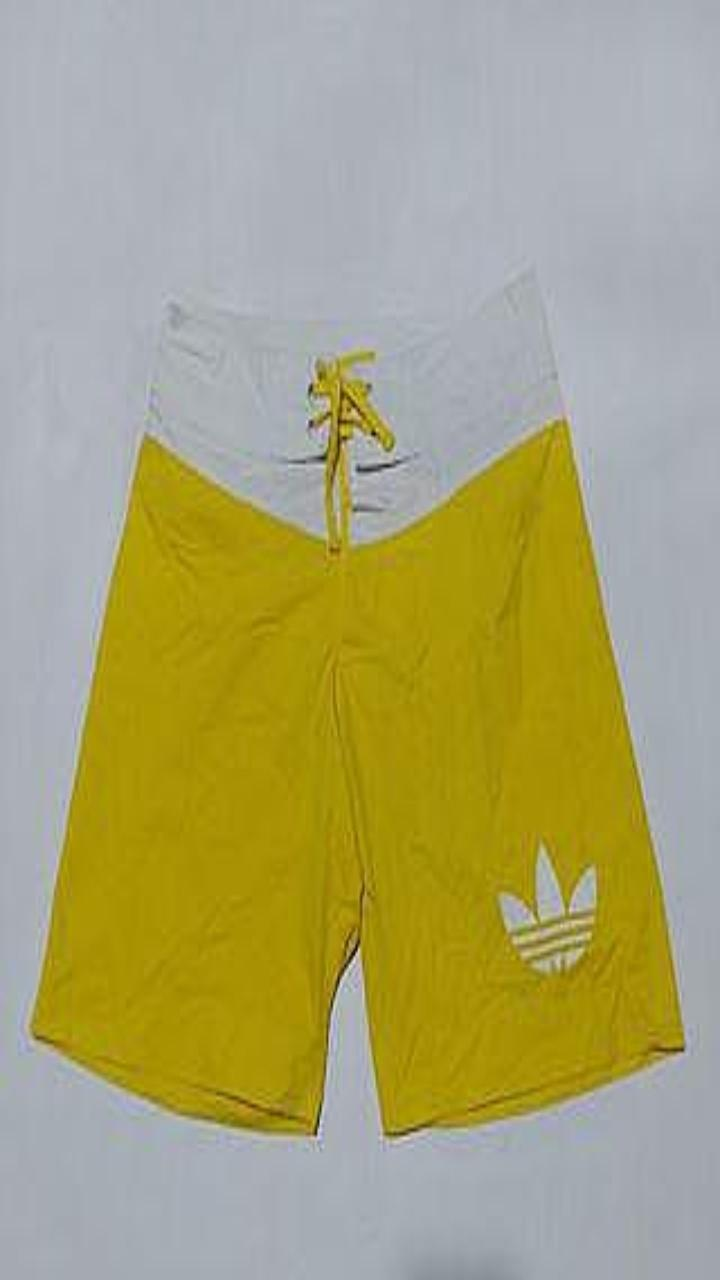Shorts: (32, 273, 683, 1133)
